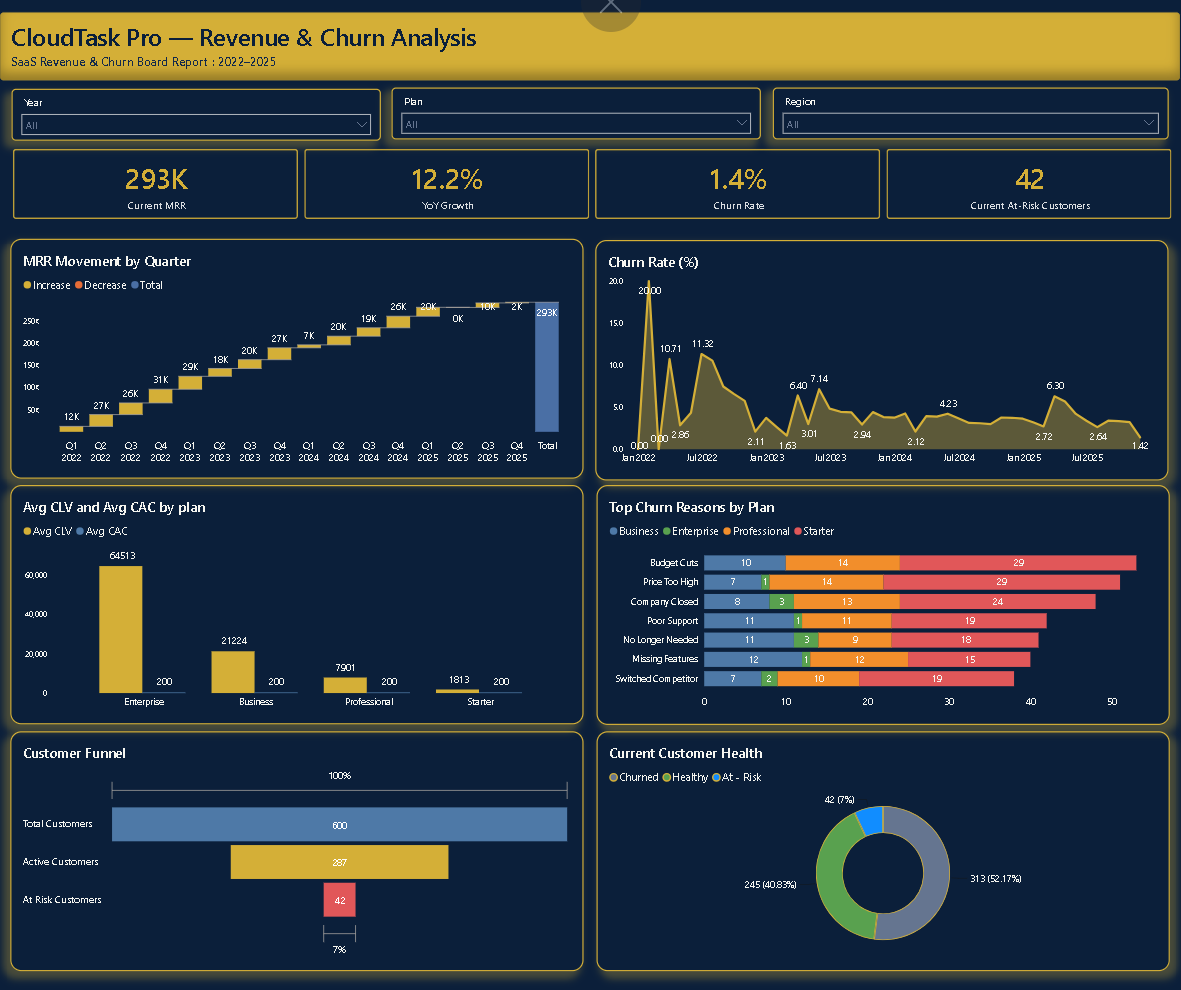

This screenshot's page, from the dashboard's own definition file:
{"tool":"powerbi","page":{"name":"CloudTask-Pro-SaaS-Churn-Analysi","canvas":[1600,1340],"ordinal":0},"visuals":[{"type":"cardVisual","fields":{"Data":["Monthly Measures.Current MRR","Monthly Measures.MRR YoY Growth %","Monthly Measures.Current Month Churn Rate","Subscription Measures.At Risk Customers"]},"box":[7.6,189.4,1592.4,119.7],"z":0},{"type":"slicer","fields":{"Values":["Date.Year"]},"box":[16.7,120,500,70],"z":1000},{"type":"slicer","title":"uhn","fields":{"Values":["subscriptions.plan"]},"box":[532,119,500,70],"z":2000},{"type":"slicer","fields":{"Values":["subscriptions.region"]},"box":[1048,119,536,70],"z":3000},{"type":"waterfallChart","title":"MRR Movement by Quarter","fields":{"Category":["Date.Quarter Label"],"Y":["Monthly Measures.MRR Change (MoM)"]},"box":[16,324,776,325],"z":4000},{"type":"funnel","title":"Customer Funnel","fields":{"Y":["Subscription Measures.Total Customers","Subscription Measures.Active Customers","Subscription Measures.At Risk Customers"]},"box":[16,990,776,325],"z":5000},{"type":"clusteredColumnChart","title":"Avg CLV and Avg CAC  by plan","fields":{"Category":["subscriptions.plan"],"Y":["Subscription Measures.Avg CLV","Monthly Measures.Avg CAC (Current Year)"]},"box":[15.7,657.1,775.7,324.3],"z":7000},{"type":"barChart","title":"Top Churn Reasons by Plan","fields":{"Category":["subscriptions.churn_reason"],"Series":["subscriptions.plan"],"Y":["CountNonNull(subscriptions.customer_id)"]},"box":[808,657,776,325],"z":8000},{"type":"donutChart","title":"Current Customer Health","fields":{"Category":["subscriptions.Health Status"],"Y":["CountNonNull(subscriptions.customer_id)"]},"box":[808,990,776,325],"z":9000},{"type":"textbox","box":[0,16,1600,95],"z":10000},{"type":"lineChart","title":"Churn Rate (%)","fields":{"Category":["monthly_revenue.month"],"Y":["Avg(monthly_revenue.monthly_churn_rate_pct)"]},"box":[807.6,324.2,775.8,325.8],"z":11000}]}

Visuals, with their boxes in screenshot pixels (x1, y1, x2, y2), scaled from the page's 1600x1340 canvas onto the 1181x990 screenshot:
cardVisual - Monthly Measures.Current MRR x Monthly Measures.MRR YoY Growth %: rect(6, 140, 1180, 228)
slicer - Date.Year: rect(12, 89, 381, 140)
"uhn" slicer: rect(393, 88, 762, 140)
slicer - subscriptions.region: rect(774, 88, 1169, 140)
"MRR Movement by Quarter" waterfallChart: rect(12, 239, 585, 479)
"Customer Funnel" funnel: rect(12, 731, 585, 972)
"Avg CLV and Avg CAC  by plan" clusteredColumnChart: rect(12, 485, 584, 725)
"Top Churn Reasons by Plan" barChart: rect(596, 485, 1169, 726)
"Current Customer Health" donutChart: rect(596, 731, 1169, 972)
textbox: rect(0, 12, 1180, 82)
"Churn Rate (%)" lineChart: rect(596, 240, 1169, 480)
